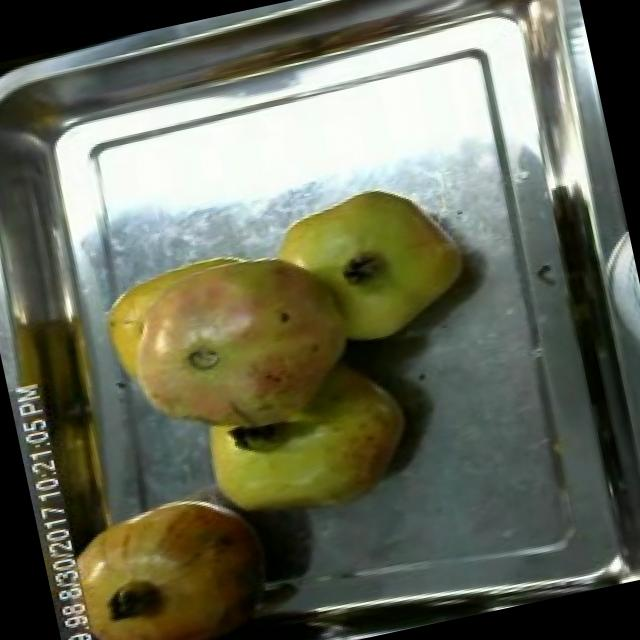fruit: (84, 220, 384, 476), (254, 166, 492, 370), (39, 466, 304, 640)
